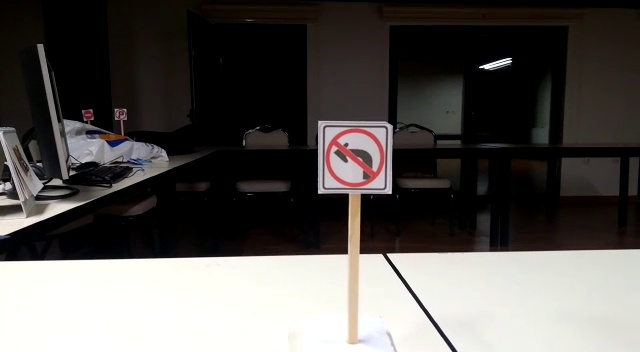sola_donulmez: (322, 126, 388, 189)
